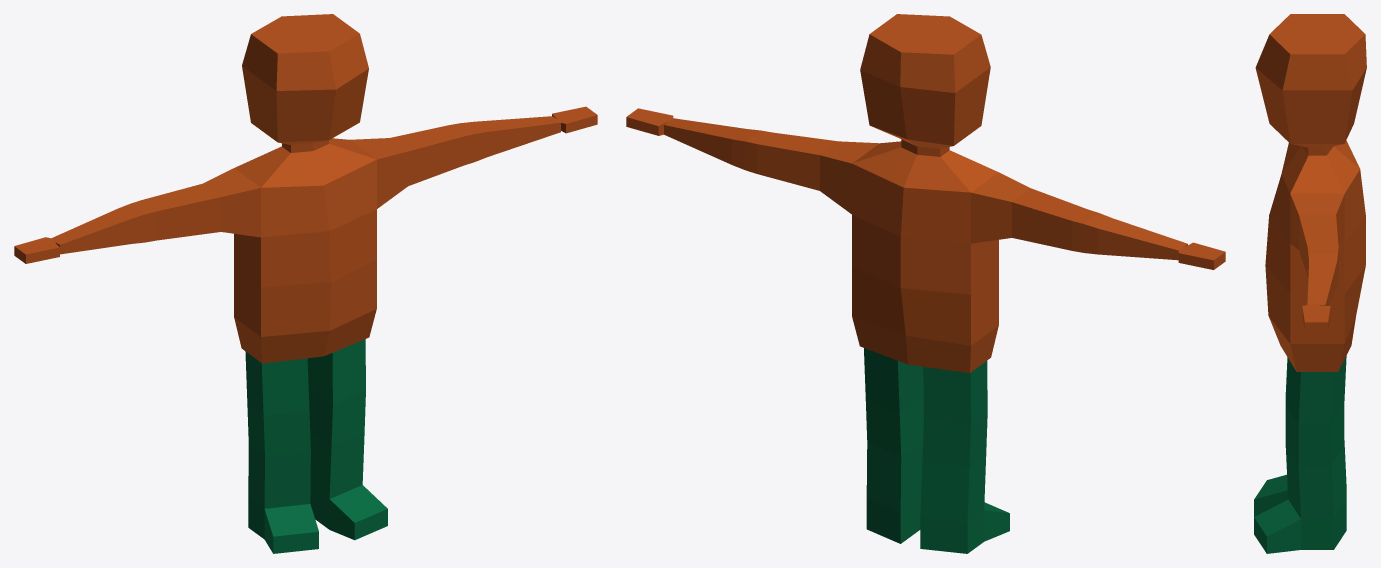
File: Tribal.fbx
The picture shows the model from 3 angles, left to right: view 1: azimuth 30°, elevation 25°; view 2: azimuth 150°, elevation 25°; view 3: azimuth 270°, elevation 25°; orthographic projection. The views are drawn at different scales.
Parts seen in each view (by area): view 1: Cube; view 2: Cube; view 3: Cube.
Part boxes in pixels (<box>): Cube: <box>14,14,597,553</box>; Cube: <box>626,14,1225,553</box>; Cube: <box>1254,14,1366,553</box>.
Bounding box in the file's own units: 335 × 273 × 56.89.
